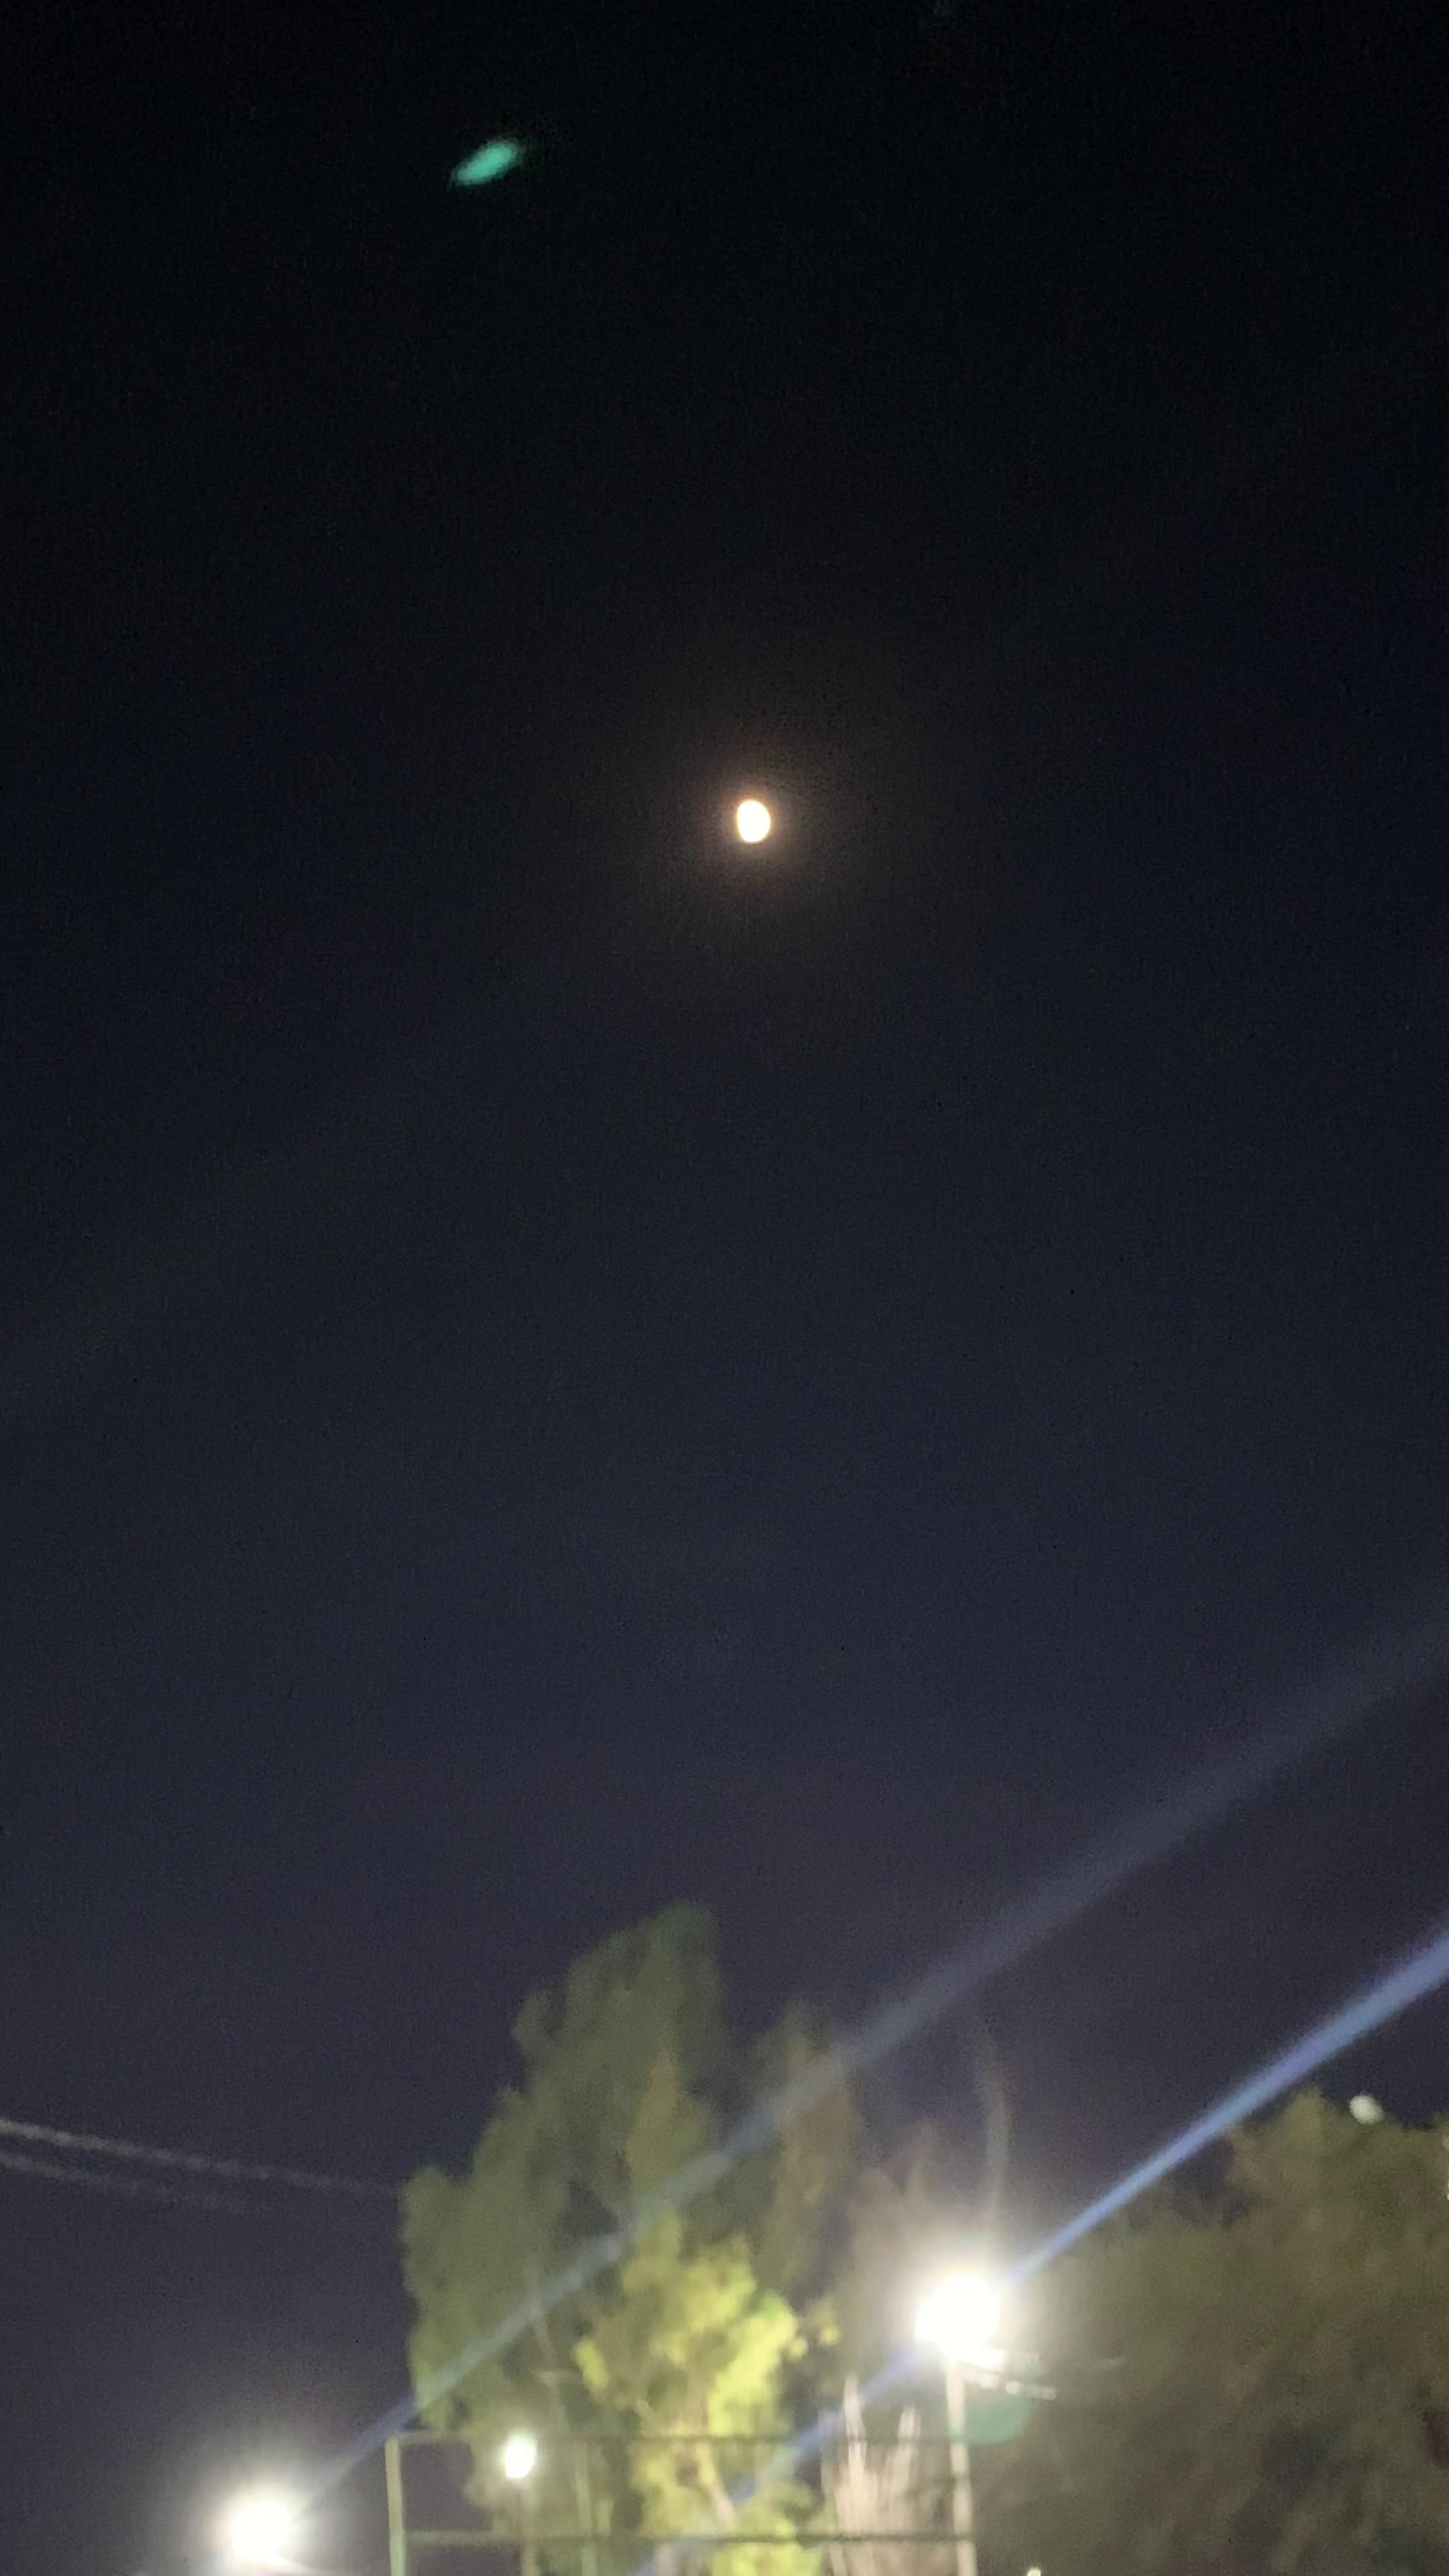moon: (692, 786, 819, 897)
